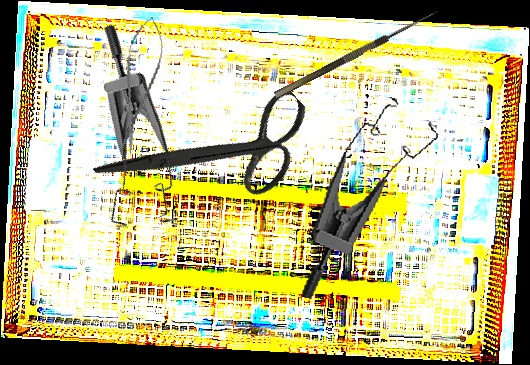Hook Surgical: (269, 0, 440, 99)
Iris Scissors: (91, 33, 331, 269)
Micro Scissor: (108, 13, 170, 157)
Speculum: (27, 21, 214, 249), (299, 87, 444, 317)
